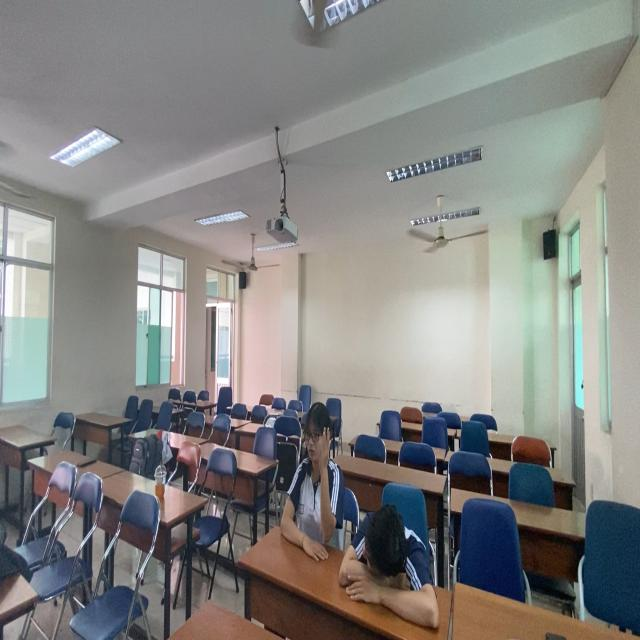raise_hand: (275, 405, 348, 540)
sleep: (341, 492, 448, 604)
